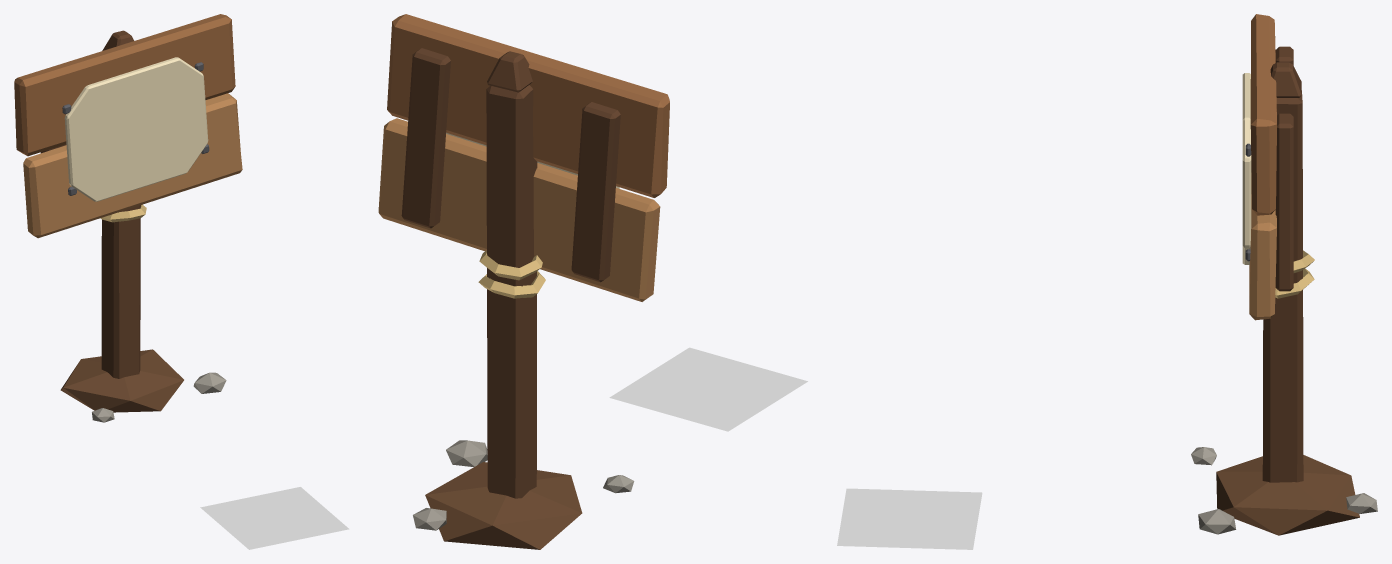
File: CropSign_Stake.fbx
3 renders of one model, left to right at view 1: azimuth 30°, elevation 25°; view 2: azimuth 150°, elevation 25°; view 3: azimuth 270°, elevation 25°, orthographic. The views are drawn at different scales.
Parts seen in each view (by area): view 1: Board, Post, Icon; view 2: Board, Post, Icon; view 3: Post, Board, Icon.
Part boxes in pixels (bbox=[...]): Board: bbox=[14, 14, 242, 238]; Post: bbox=[60, 30, 226, 422]; Icon: bbox=[200, 487, 349, 549]; Board: bbox=[378, 14, 669, 301]; Post: bbox=[413, 51, 634, 549]; Icon: bbox=[609, 347, 807, 431]; Post: bbox=[1191, 62, 1377, 535]; Board: bbox=[1242, 14, 1293, 320]; Icon: bbox=[837, 488, 982, 549].
Size of the model in its own units: 0.4357 by 0.701 by 0.7538.
